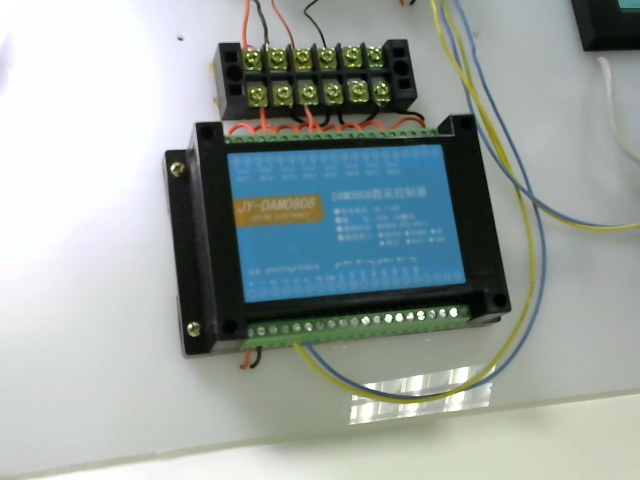relay: (157, 112, 520, 364)
